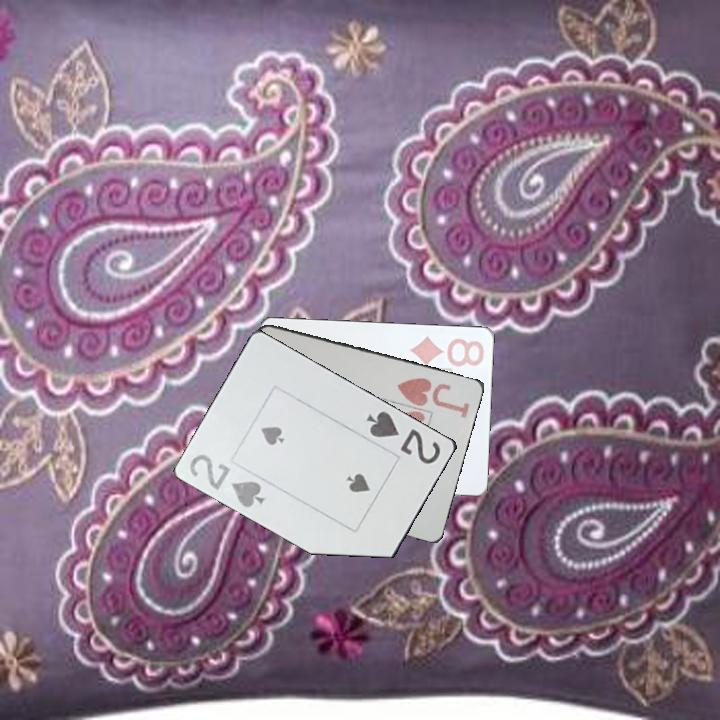2s: (186, 449, 268, 510), (363, 406, 444, 467)
8d: (406, 332, 487, 368)
Jh: (393, 374, 473, 420)
